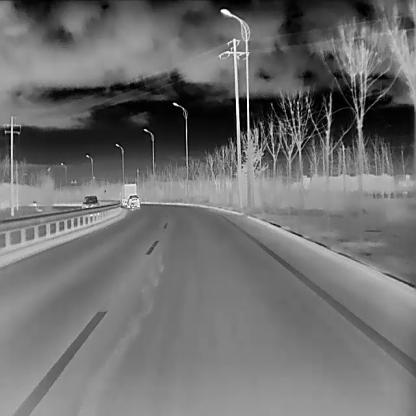car: (80, 194, 99, 210), (125, 193, 140, 208)
truck: (120, 182, 136, 206)
